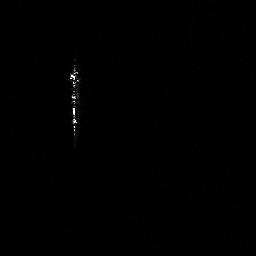ship: (64, 60, 82, 143)
